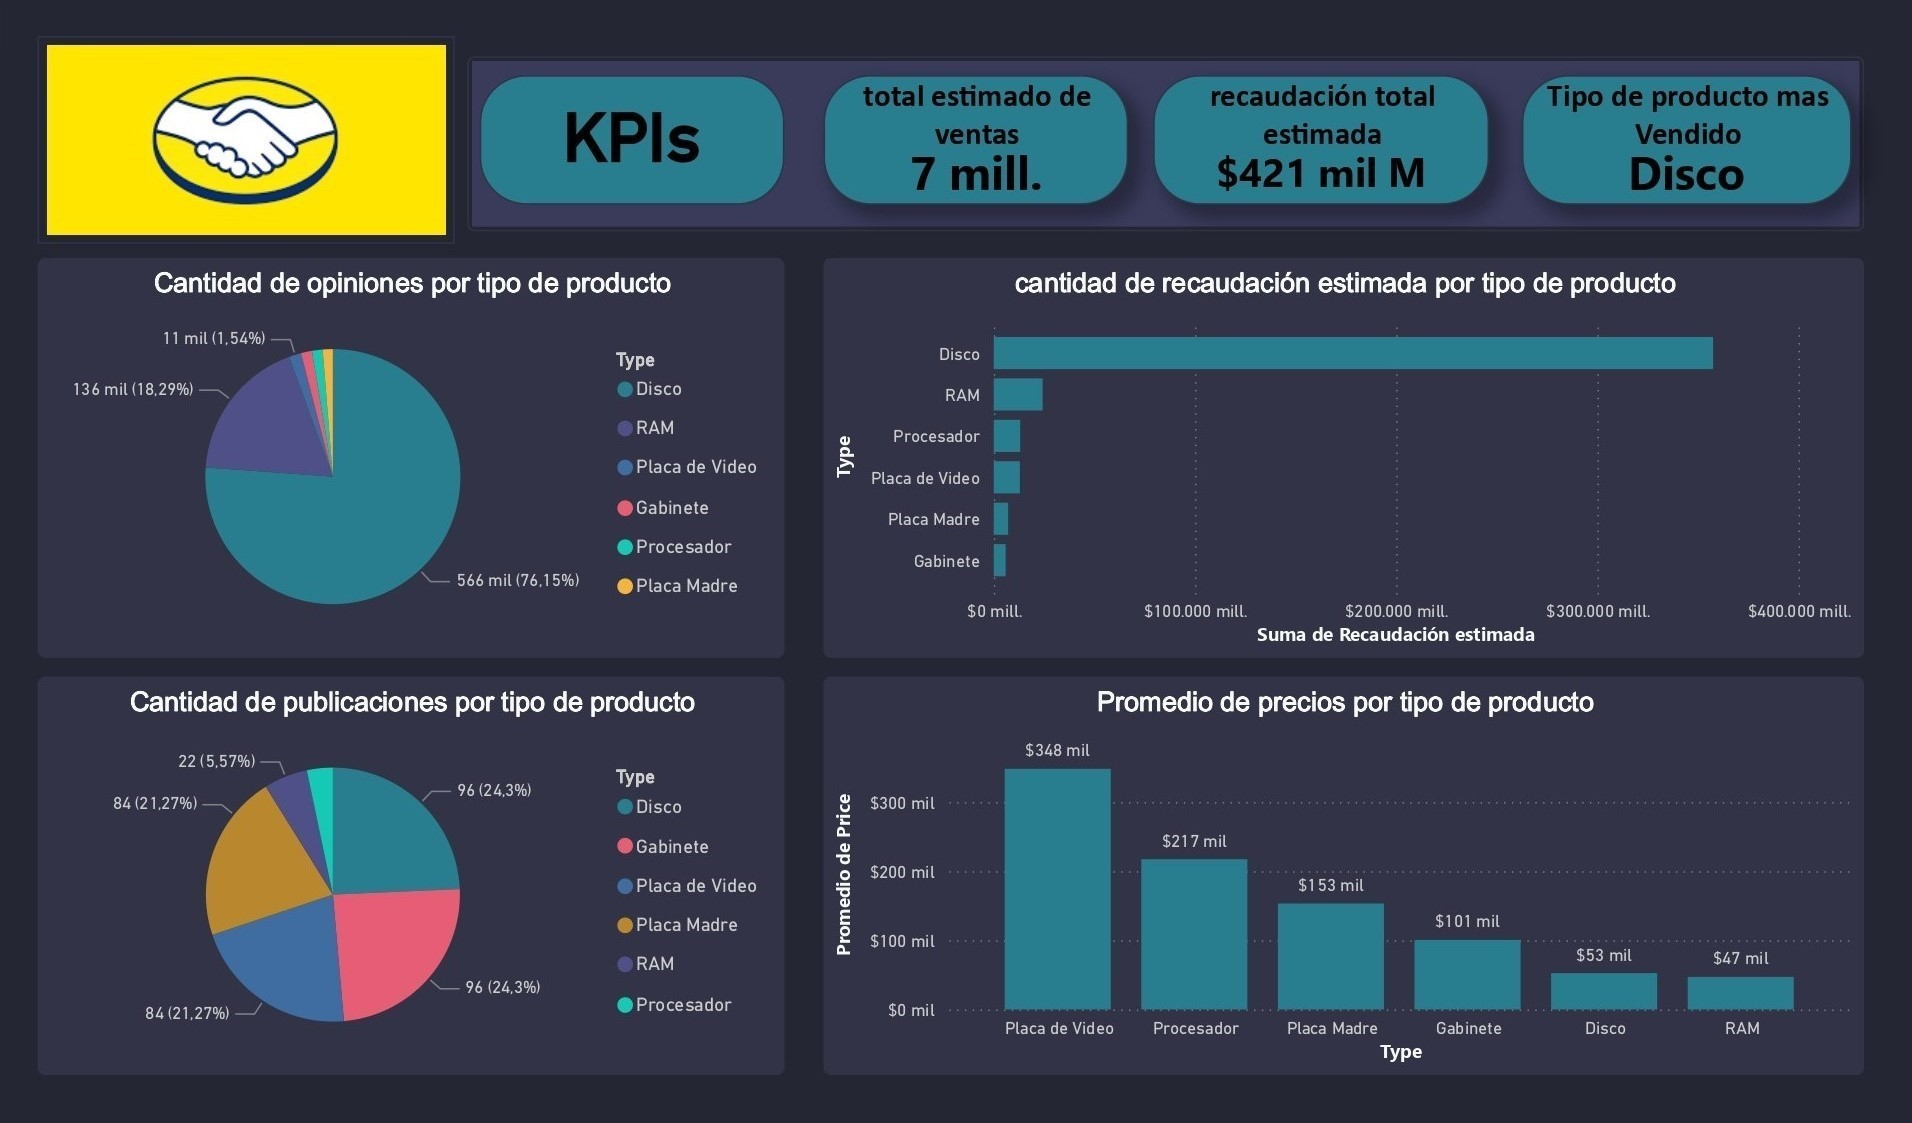

The dashboard page shown, as its layout file describes it:
{"tool":"powerbi","page":{"name":"Duplicado de Página 1","canvas":[1280,720],"ordinal":0},"visuals":[{"type":"shape","box":[300,37,894,112],"z":0},{"type":"columnChart","title":"Promedio de precios por tipo de producto","fields":{"Category":["productos_mercadolibre (2).Type"],"Y":["Avg(productos_mercadolibre (2).Price)"]},"box":[528,434,666,255],"z":1000},{"type":"card","title":"total estimado de ventas","fields":{"Values":["Sum(productos_mercadolibre.Sold)"]},"box":[528,49,195,83],"z":2000},{"type":"card","title":"Tipo de producto mas Vendido","fields":{"Values":["productos_mercadolibre.Most Sold Product Type"]},"box":[975,49,211,83],"z":3000},{"type":"pieChart","title":"Cantidad de publicaciones por tipo de producto","fields":{"Category":["productos_mercadolibre (2).Type"],"Y":["CountNonNull(productos_mercadolibre (2).Type)"]},"box":[25,434,478,255],"z":4000},{"type":"clusteredBarChart","title":"cantidad de recaudación estimada por tipo de producto","fields":{"Category":["productos_mercadolibre (2).Type"],"Y":["Sum(productos_mercadolibre.Recaudación estimada)"]},"box":[528,166,666,256],"z":5000},{"type":"pieChart","title":"Cantidad de opiniones por tipo de producto","fields":{"Category":["productos_mercadolibre (2).Type"],"Y":["Sum(productos_mercadolibre (2).Reviews)"]},"box":[25,166,478,256],"z":6000},{"type":"card","title":"recaudación total estimada","fields":{"Values":["productos_mercadolibre.Recaudación Total Estimada"]},"box":[739,49,215,83],"z":7000},{"type":"image","box":[25,24,267,133],"z":8000},{"type":"textbox","box":[308,49,195,83],"z":9000}]}

Visuals, with their boxes on the page's 1280x720 design canvas (x1, y1, x2, y2). These are canvas units, not pixel positions in the 1912x1123 screenshot, which may show the page scaled, cropped or inside an application window:
shape: BBox(300, 37, 1194, 149)
"Promedio de precios por tipo de producto" columnChart: BBox(528, 434, 1194, 689)
"total estimado de ventas" card: BBox(528, 49, 723, 132)
"Tipo de producto mas Vendido" card: BBox(975, 49, 1186, 132)
"Cantidad de publicaciones por tipo de producto" pieChart: BBox(25, 434, 503, 689)
"cantidad de recaudación estimada por tipo de producto" clusteredBarChart: BBox(528, 166, 1194, 422)
"Cantidad de opiniones por tipo de producto" pieChart: BBox(25, 166, 503, 422)
"recaudación total estimada" card: BBox(739, 49, 954, 132)
image: BBox(25, 24, 292, 157)
textbox: BBox(308, 49, 503, 132)
